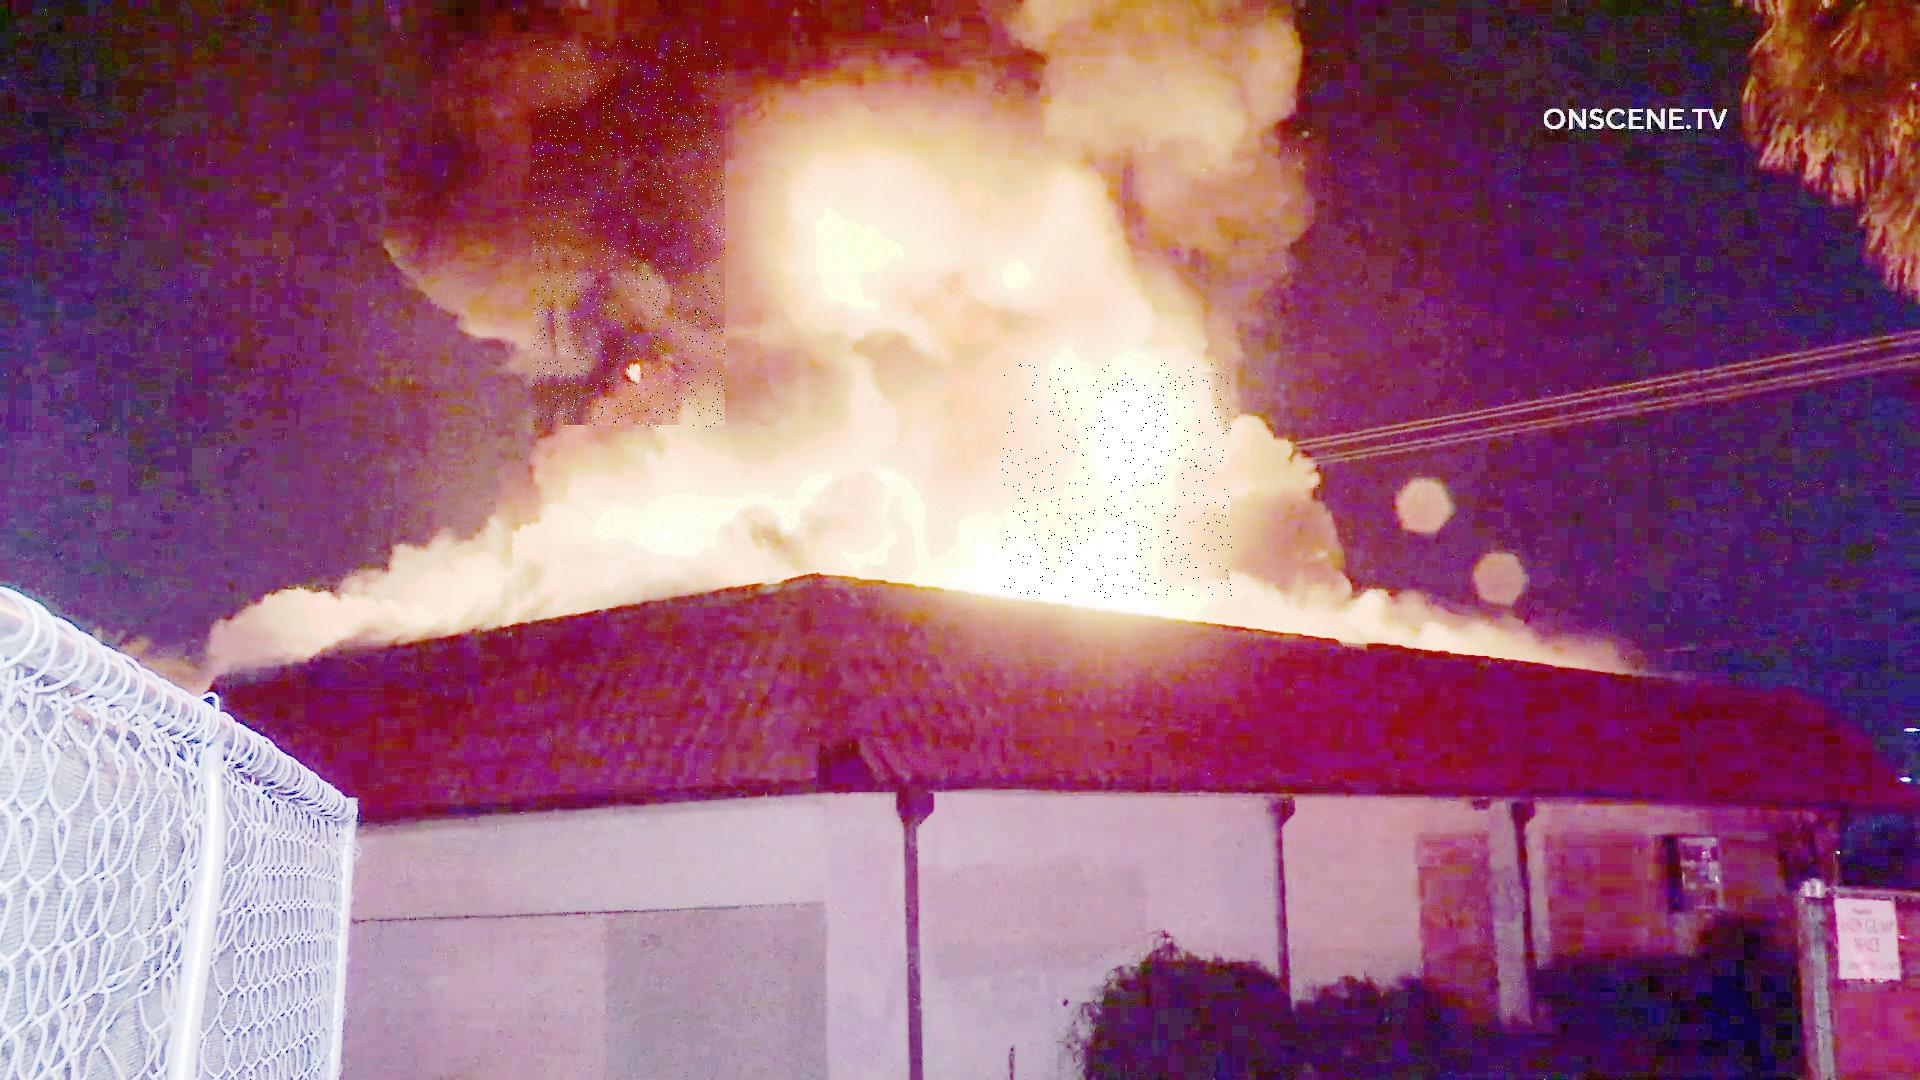fire: (1004, 363, 1233, 599)
smoke: (533, 41, 725, 429)
